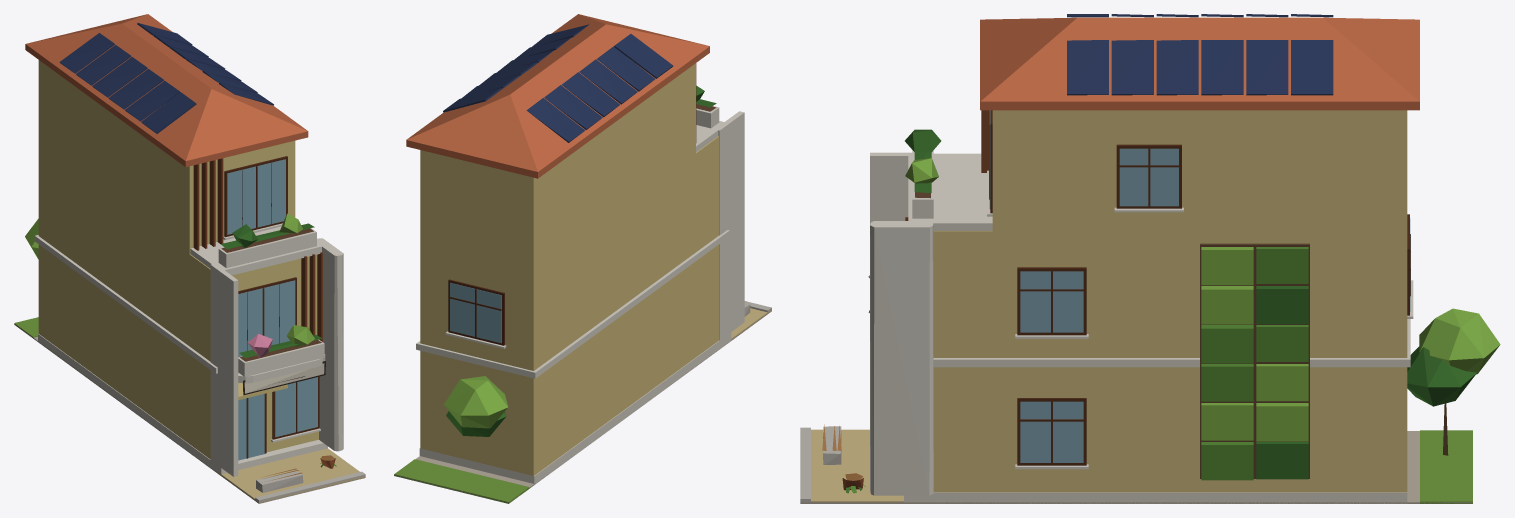
File: bay1_right.glb
3 views of the same model, side by side, from view 1: azimuth 30°, elevation 25°; view 2: azimuth 150°, elevation 25°; view 3: azimuth 270°, elevation 25° (orthographic). The views are drawn at different scales.
Parts seen in each view (by area): view 1: body; view 2: body; view 3: body.
Part boxes in pixels (x1,y1,x2,y2): body: (14,14,365,503); body: (394,14,771,503); body: (800,14,1500,503).
Size of the model in its own units: 4.6 by 11.99 by 16.56.
